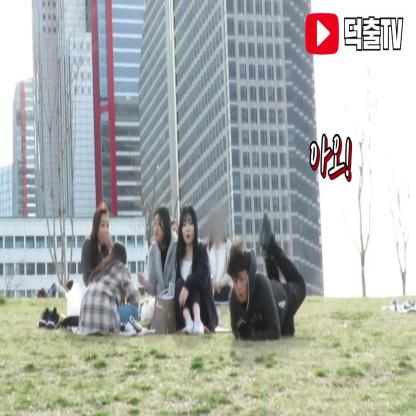Fall_Down: (226, 207, 309, 345)
